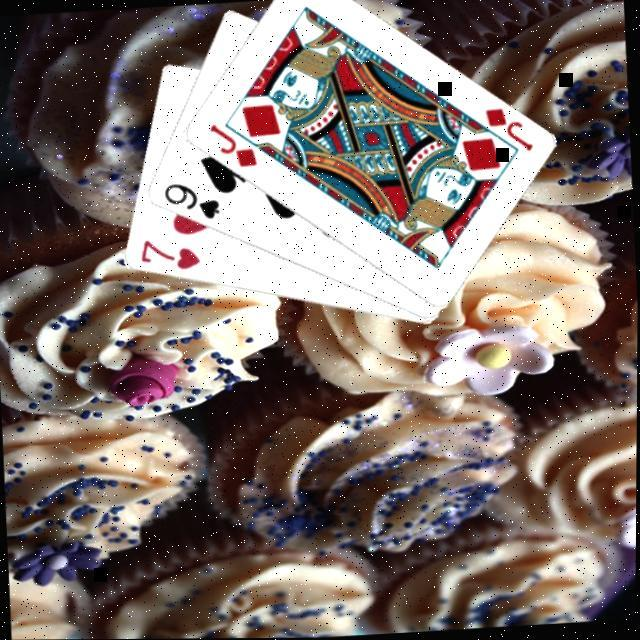7H: (138, 236, 206, 277)
9S: (162, 180, 226, 227)
JD: (483, 105, 539, 160), (207, 120, 262, 175)
